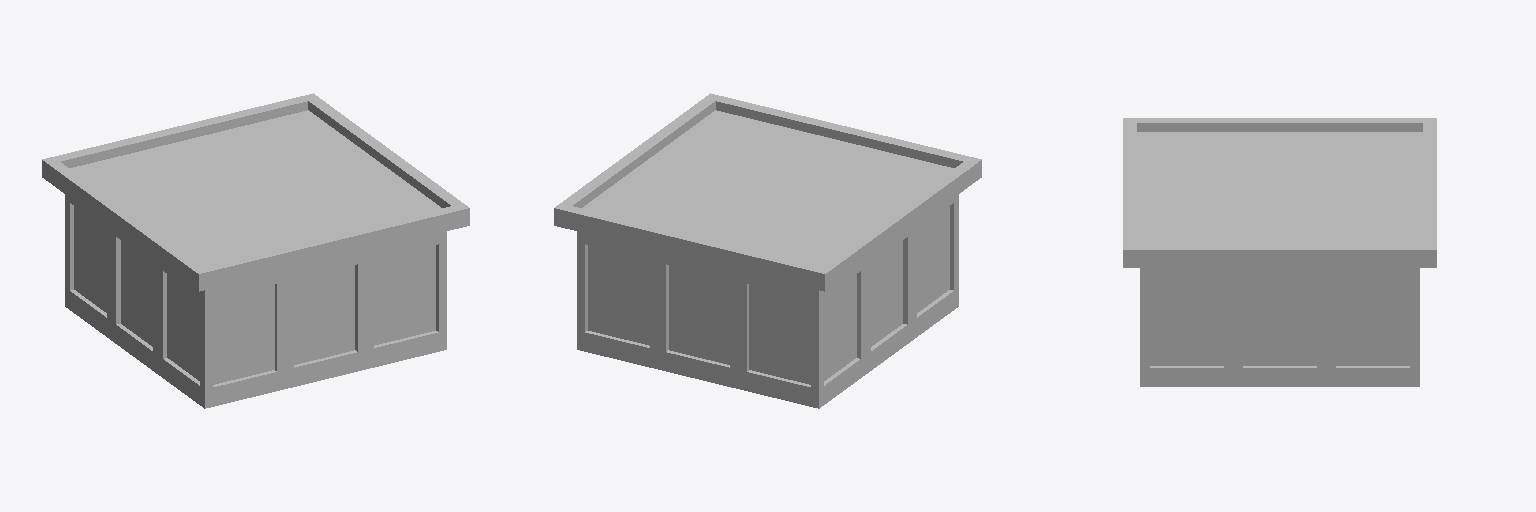
Rendered from building.obj.
3 views of the same model, side by side, from view 1: azimuth 30°, elevation 25°; view 2: azimuth 150°, elevation 25°; view 3: azimuth 270°, elevation 25° (orthographic).
Parts seen in each view (by area): view 1: Plane; view 2: Plane; view 3: Plane.
Part boxes in pixels (x1,y1,x2,y2): Plane: (42,93,469,408); Plane: (554,93,981,408); Plane: (1123,118,1436,386).
Size of the model in its own units: 8.97 by 4.56 by 8.97.